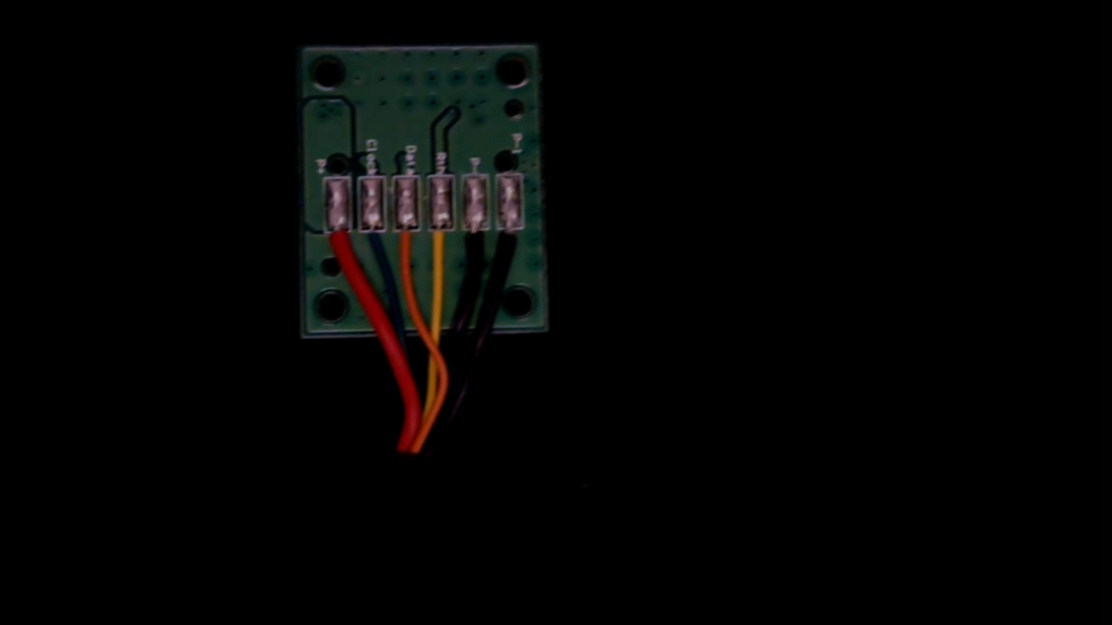Black: (462, 211, 491, 271)
Black1: (498, 214, 526, 273)
Green: (361, 214, 388, 268)
Orange: (395, 212, 420, 267)
Red: (327, 215, 353, 273)
Yellow: (429, 210, 456, 270)
